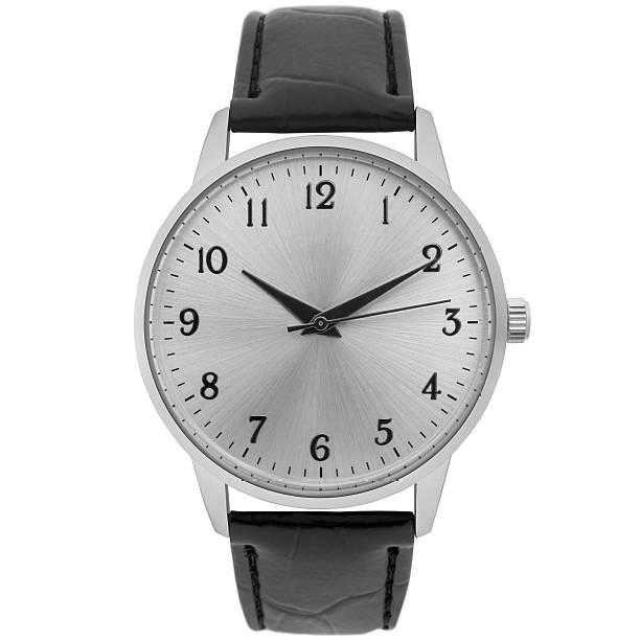watch: (126, 130, 538, 492)
